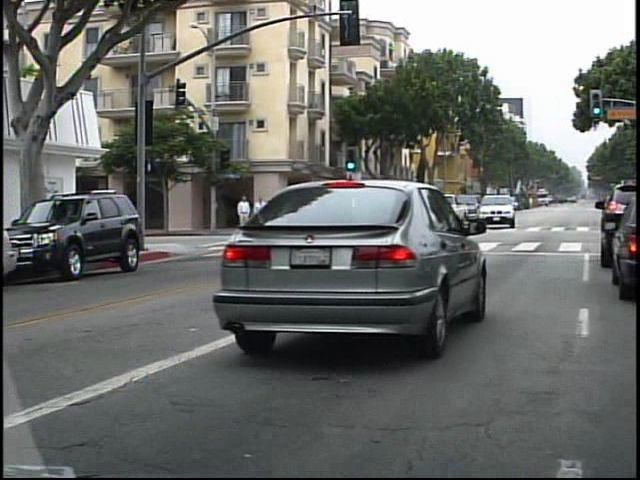person: (232, 191, 250, 239), (251, 194, 270, 235)
